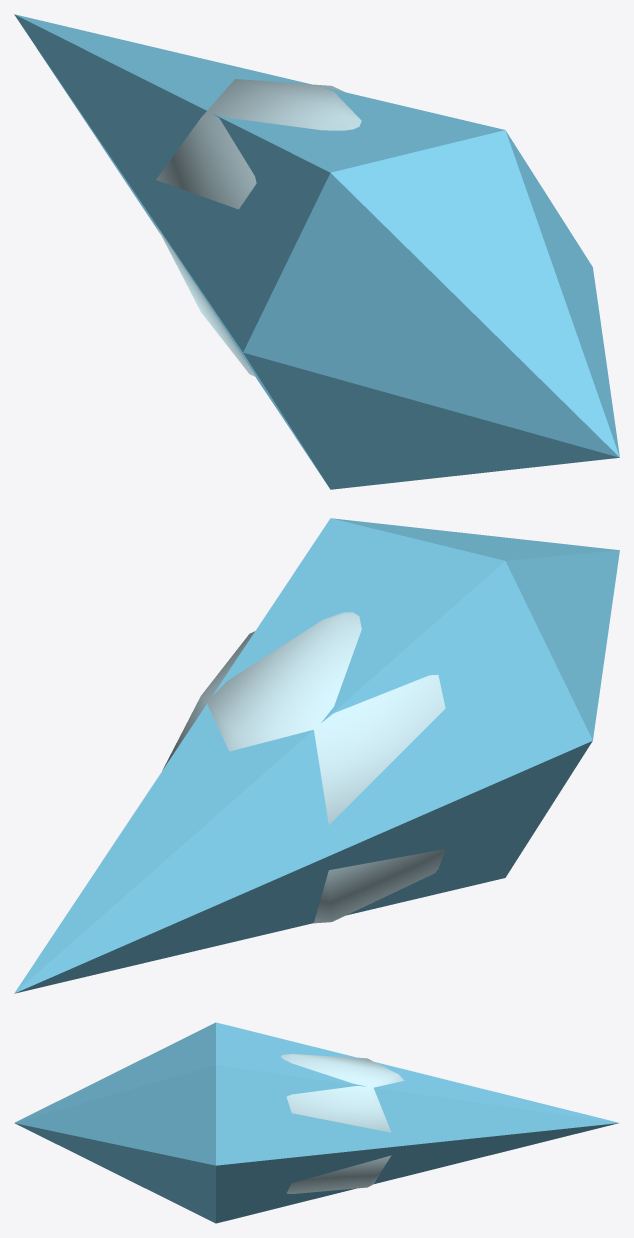
Rendered from frost_shard.glb.
3 renders of one model, top to bottom at view 1: azimuth 30°, elevation 25°; view 2: azimuth 150°, elevation 25°; view 3: azimuth 270°, elevation 25°, orthographic. The views are drawn at different scales.
Visible parts, largest first — view 1: Shard; view 2: Shard; view 3: Shard.
Part boxes in pixels (left/top/right/bottom): Shard: left=14, top=14, right=619, bottom=489; Shard: left=14, top=518, right=619, bottom=993; Shard: left=14, top=1022, right=618, bottom=1223.
Bounding box in the file's own units: 0.08 × 0.0693 × 0.24.
Materials: 1 (1 with a texture image).
